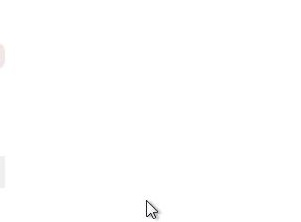cursor: (143, 198, 161, 221)
